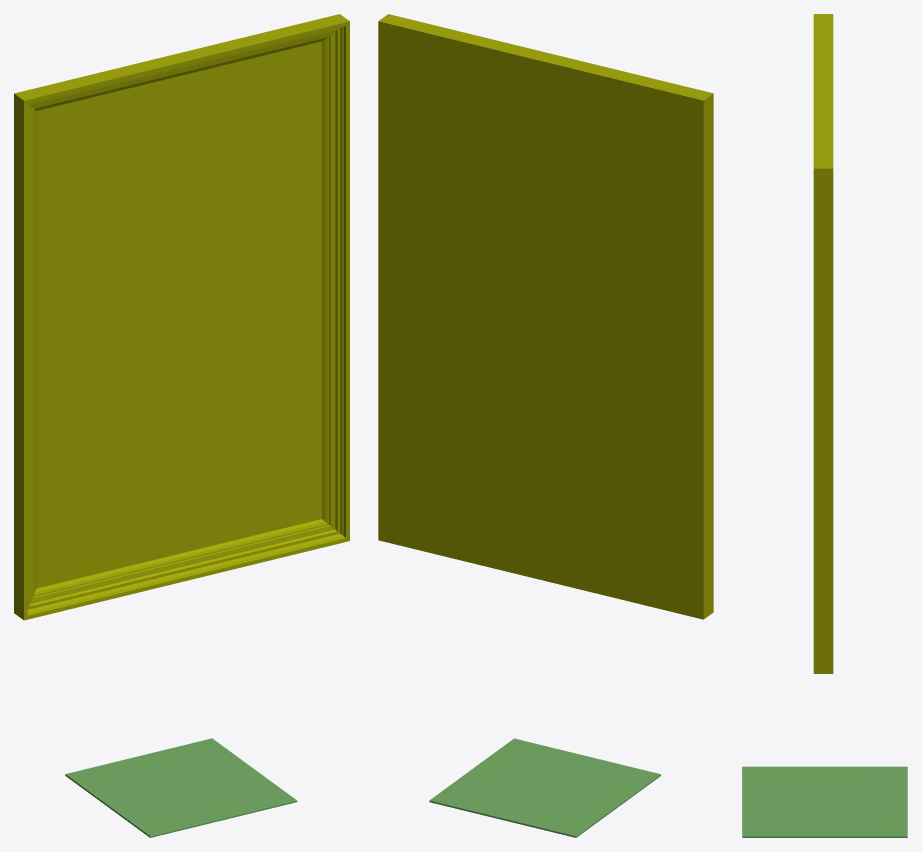
Rendered from Extras.fbx.
The picture shows the model from 3 angles, left to right: view 1: azimuth 30°, elevation 25°; view 2: azimuth 150°, elevation 25°; view 3: azimuth 270°, elevation 25°; orthographic projection. The views are drawn at different scales.
Parts seen in each view (by area): view 1: Picture, ParedInteractiva; view 2: Picture, ParedInteractiva; view 3: Picture, ParedInteractiva.
Boxes of the visible parts, left/top/right/bottom form: Picture: left=14, top=14, right=349, bottom=620; ParedInteractiva: left=65, top=738, right=297, bottom=837; Picture: left=378, top=14, right=713, bottom=619; ParedInteractiva: left=429, top=738, right=660, bottom=837; Picture: left=813, top=14, right=833, bottom=673; ParedInteractiva: left=742, top=766, right=907, bottom=837.
Bounding box in the file's own units: 30.1 × 64.66 × 13.6.
